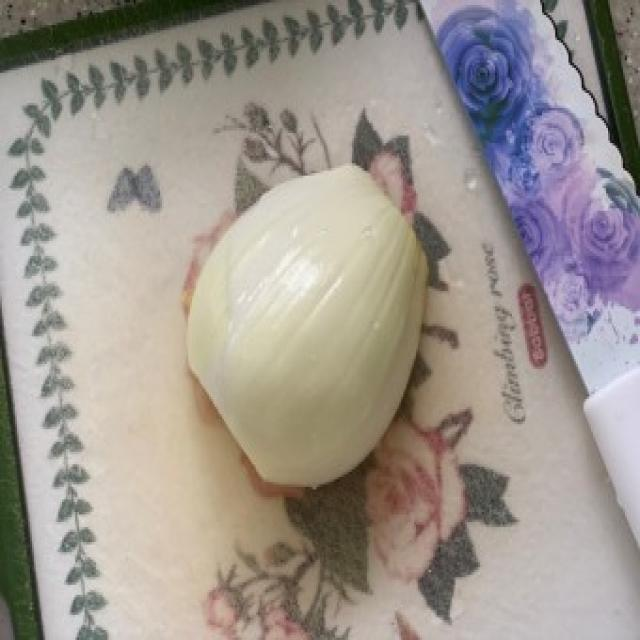onion: (192, 153, 424, 473)
